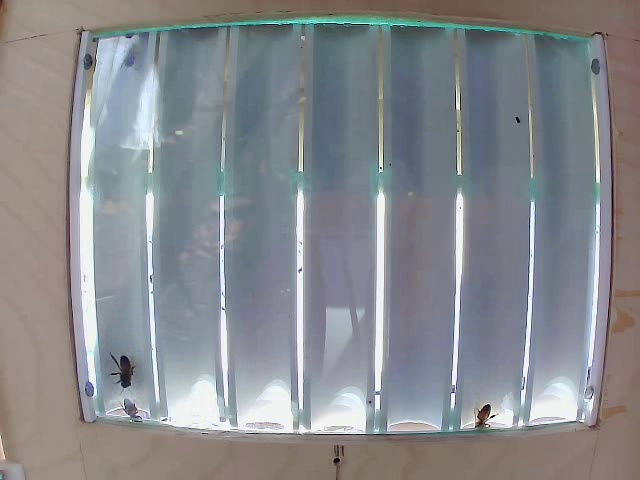bee: (110, 350, 154, 388)
